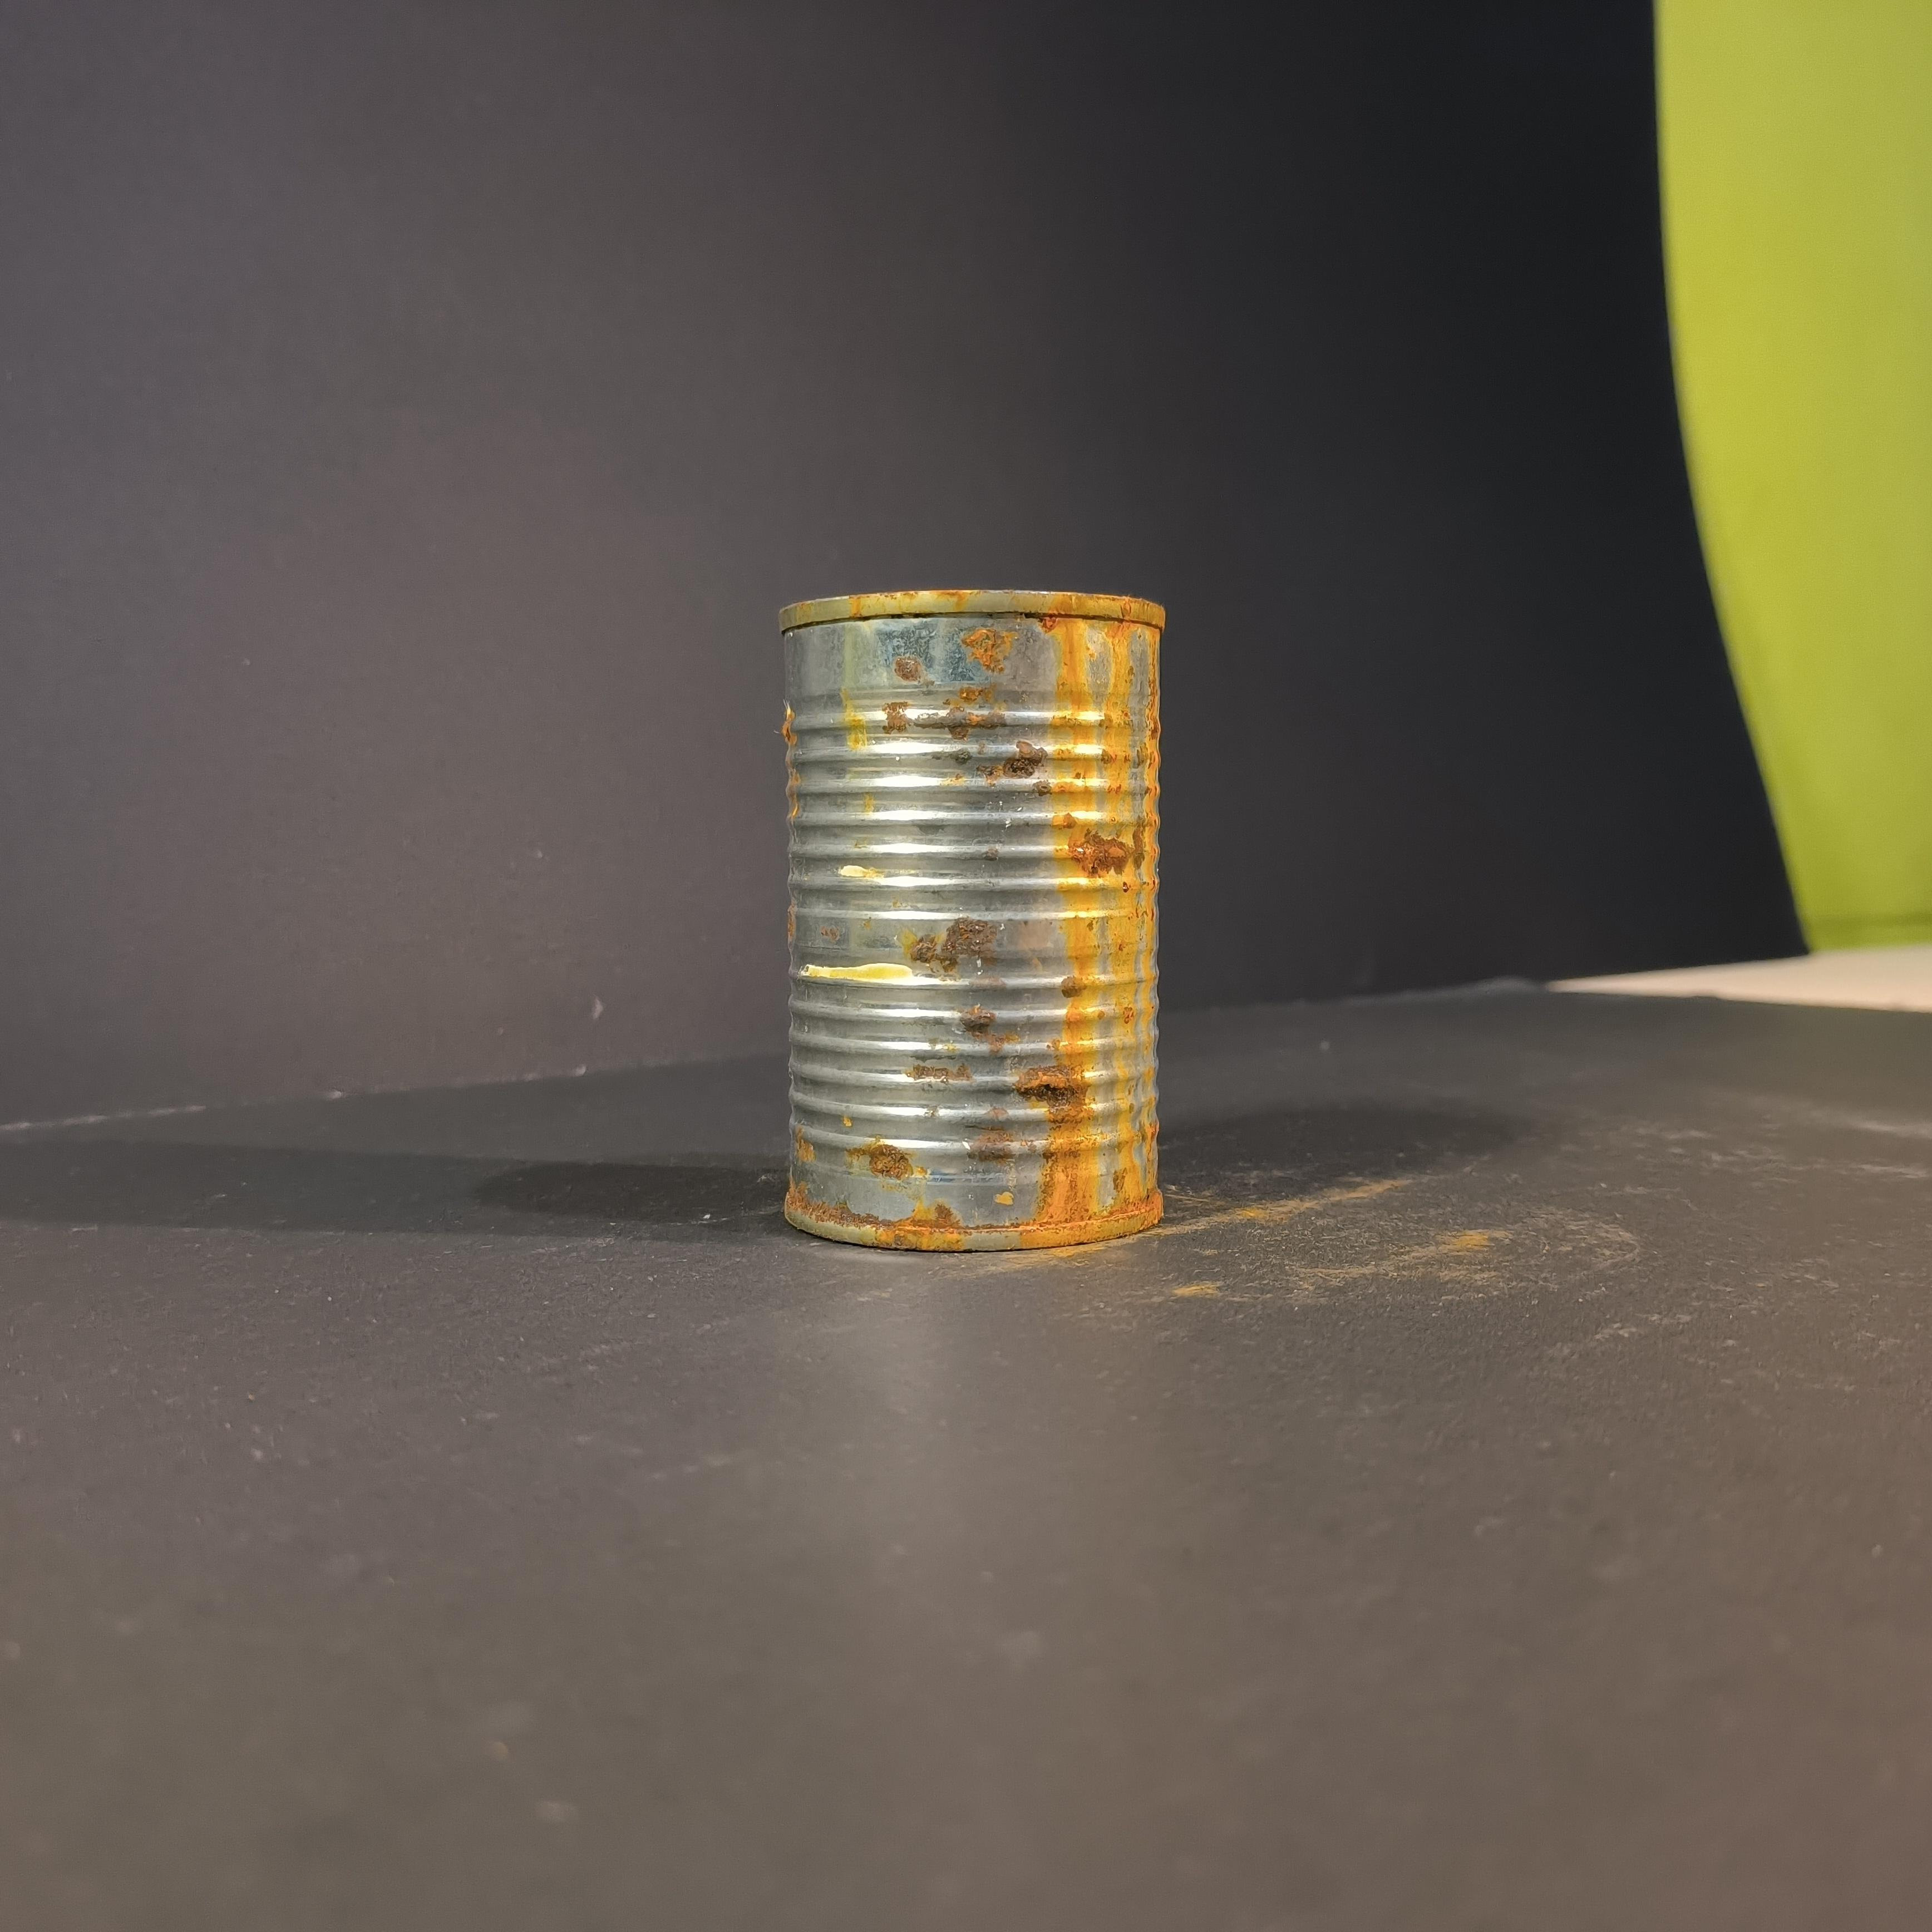Rusted: (759, 584, 1207, 1293)
